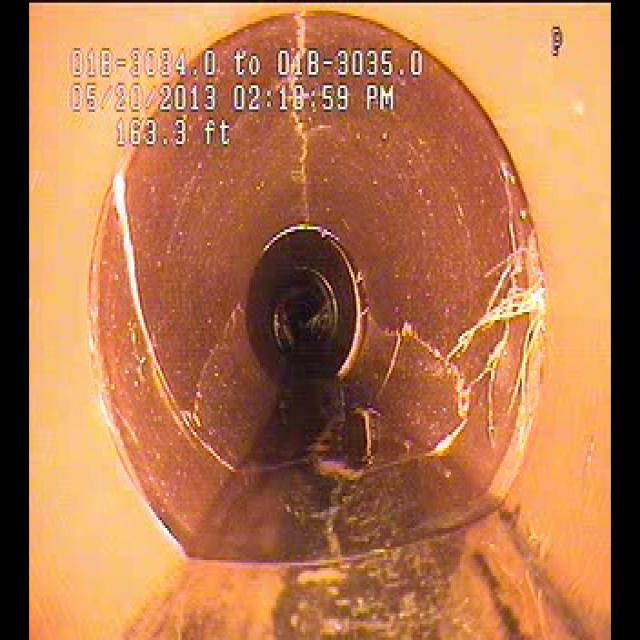Crack: (371, 289, 459, 403)
